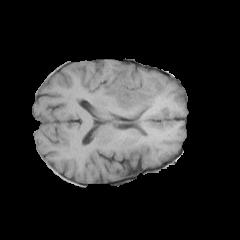glioma: (102, 66, 167, 115)
